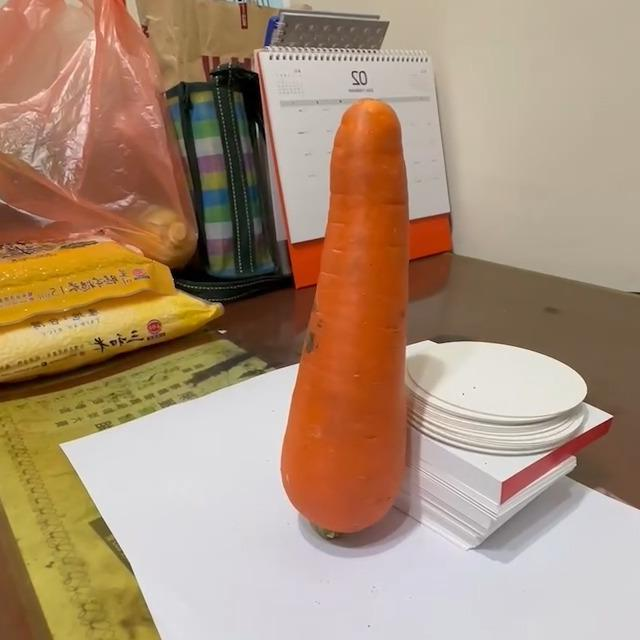carrot: (279, 97, 413, 536)
